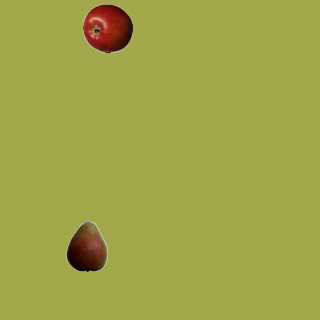Apple Braeburn: (82, 3, 132, 53)
Pear Forelle: (61, 221, 111, 271)
